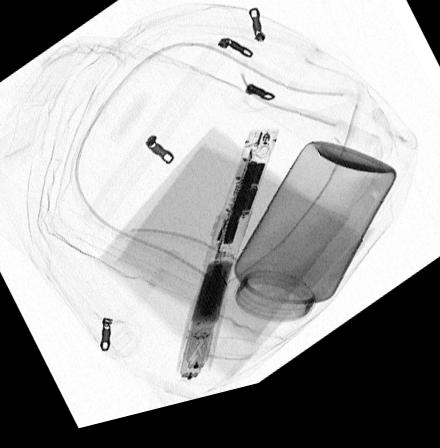Baton: (175, 138, 281, 393)
